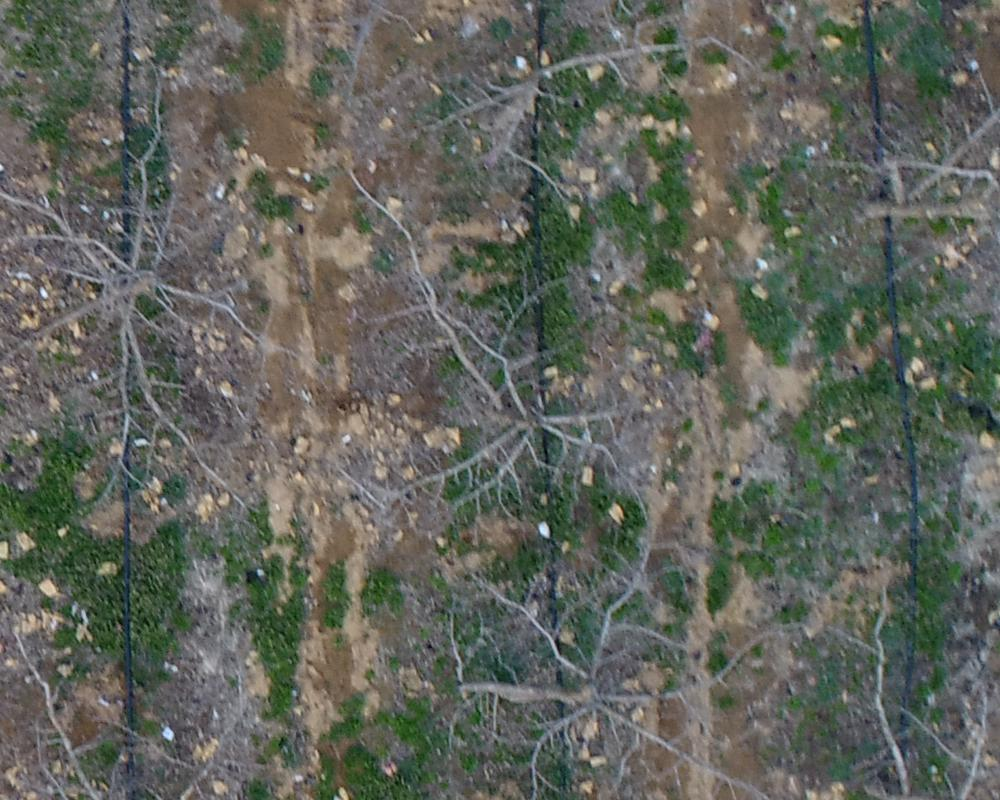apple: (334, 176, 654, 547), (10, 84, 270, 496), (424, 540, 797, 790), (421, 27, 744, 220)
